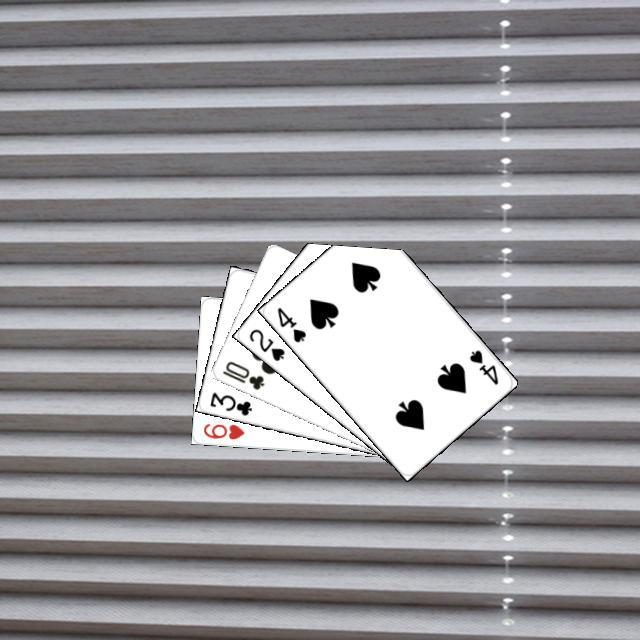10c: (217, 356, 266, 391)
2s: (244, 324, 287, 363)
3c: (205, 387, 254, 417)
4s: (272, 302, 308, 344), (464, 345, 500, 387)
6h: (198, 418, 246, 441)
